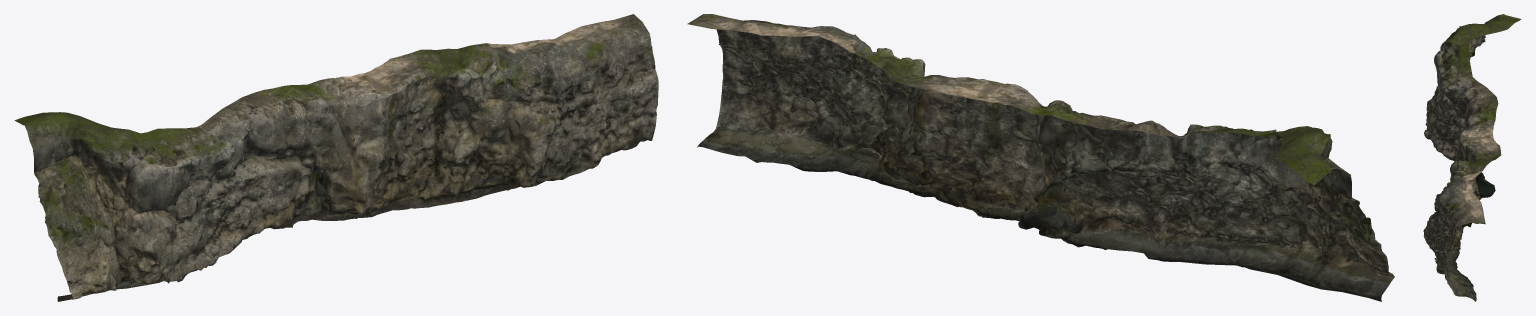
File: cliff.gltf
3 views of the same model, side by side, from view 1: azimuth 30°, elevation 25°; view 2: azimuth 150°, elevation 25°; view 3: azimuth 270°, elevation 25° (orthographic). The views are drawn at different scales.
Parts seen in each view (by area): view 1: coastal_cliff_02_LOD0; view 2: coastal_cliff_02_LOD0; view 3: coastal_cliff_02_LOD0.
Part boxes in pixels (x1,y1,x2,y2): coastal_cliff_02_LOD0: [14, 14, 658, 301]; coastal_cliff_02_LOD0: [687, 14, 1394, 301]; coastal_cliff_02_LOD0: [1423, 14, 1521, 301].
Size of the model in its own units: 40.93 by 10.05 by 8.65.
1 material, 1 textured.
